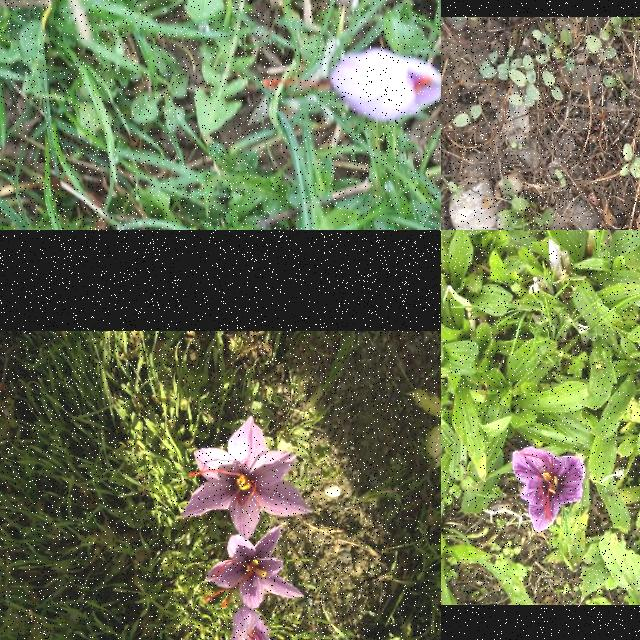flower: (182, 417, 310, 538), (262, 49, 441, 121), (202, 526, 304, 608), (512, 448, 584, 534), (226, 605, 278, 640)
